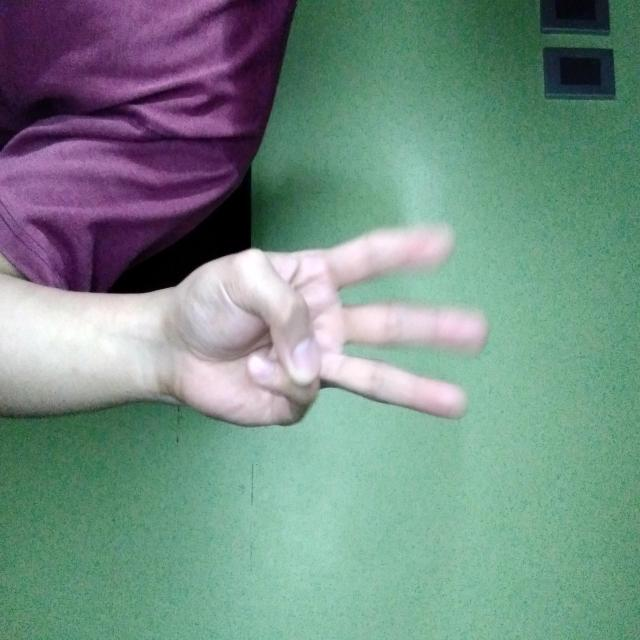W: (218, 148, 434, 480)
